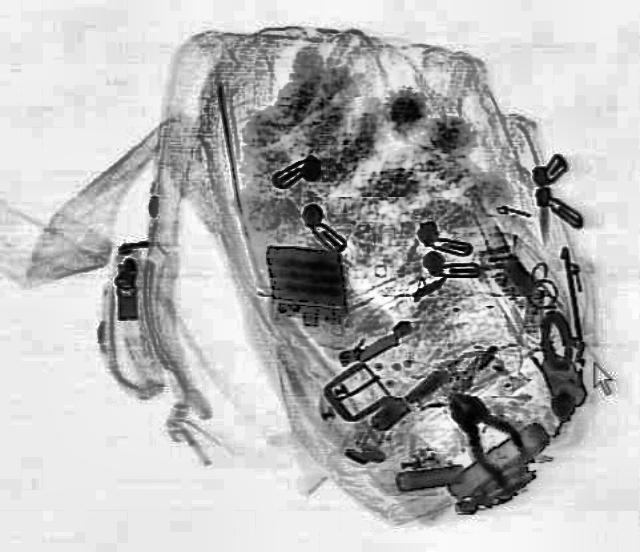Pliers: (427, 380, 551, 494)
